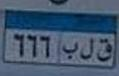6: (39, 34, 53, 59), (26, 33, 38, 59), (13, 32, 25, 58)
baa: (62, 40, 79, 62)
laam: (80, 35, 94, 62)
qaaf: (96, 37, 113, 63)
